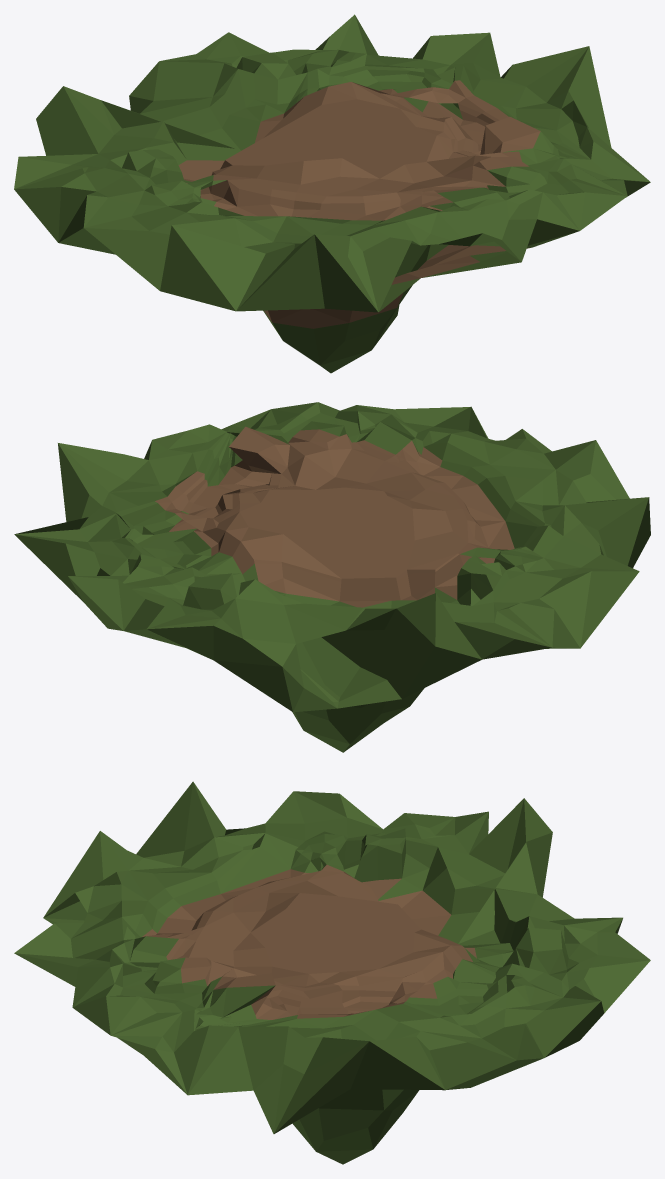
Rendered from island_small.fbx.
3 renders of one model, top to bottom at view 1: azimuth 30°, elevation 25°; view 2: azimuth 150°, elevation 25°; view 3: azimuth 270°, elevation 25°, orthographic. The views are drawn at different scales.
Visible parts, largest first — view 1: Small_Island; view 2: Small_Island; view 3: Small_Island.
Boxes of the visible parts, box(x1,y1,x2,y2) form: Small_Island: box(14, 14, 650, 373); Small_Island: box(14, 402, 650, 752); Small_Island: box(14, 781, 650, 1164).
Bounding box in the file's own units: 6501 × 3060 × 6402.
